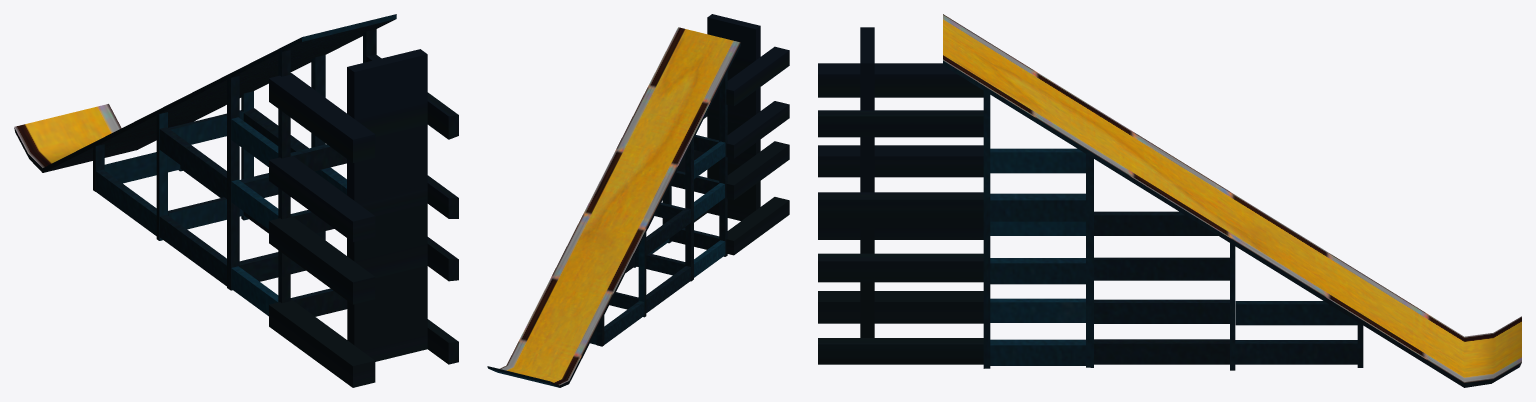
The model's file is rampv2.fbx.
3 renders of one model, left to right at view 1: azimuth 30°, elevation 25°; view 2: azimuth 150°, elevation 25°; view 3: azimuth 270°, elevation 25°, orthographic. The views are drawn at different scales.
Visible parts, largest first — view 1: ramp_tower:pCube18; view 2: ramp_tower:pCube18; view 3: ramp_tower:pCube18.
Part boxes in pixels (x1,y1,x2,y2): ramp_tower:pCube18: (14, 14, 458, 387); ramp_tower:pCube18: (487, 14, 789, 387); ramp_tower:pCube18: (818, 14, 1521, 387).
Bounding box in the file's own units: 17.31 × 50.84 × 99.
